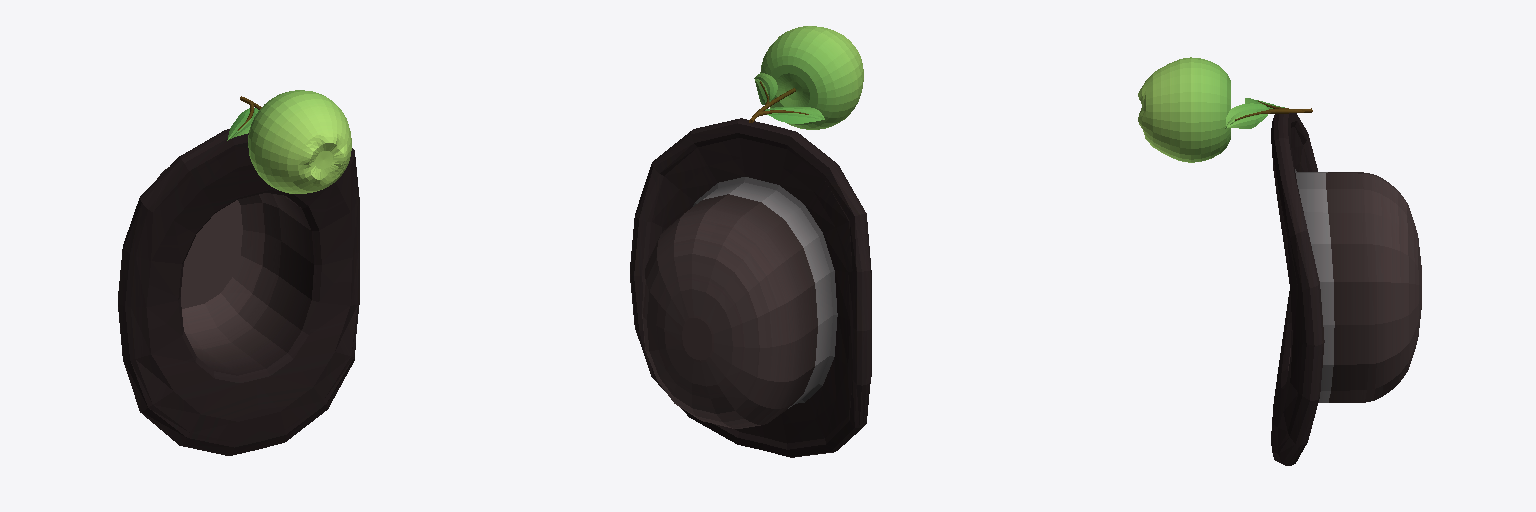
3 renders of one model, left to right at view 1: azimuth 30°, elevation 25°; view 2: azimuth 150°, elevation 25°; view 3: azimuth 270°, elevation 25°, orthographic.
Visible parts, largest first — view 1: BowlerHat, Apple, Stem; view 2: BowlerHat, Apple, Stem; view 3: BowlerHat, Apple, Stem.
Part boxes in pixels (x1,y1,x2,y2): BowlerHat: (118,129,359,455); Apple: (248,90,351,193); Stem: (227,96,261,140); BowlerHat: (630,118,871,457); Apple: (760,26,863,129); Stem: (749,73,824,123); BowlerHat: (1271,113,1421,465); Apple: (1138,57,1230,162); Stem: (1225,98,1312,128).
Bounding box in the file's own units: 49.38 × 75.89 × 50.24.
1 materials, 1 textured.